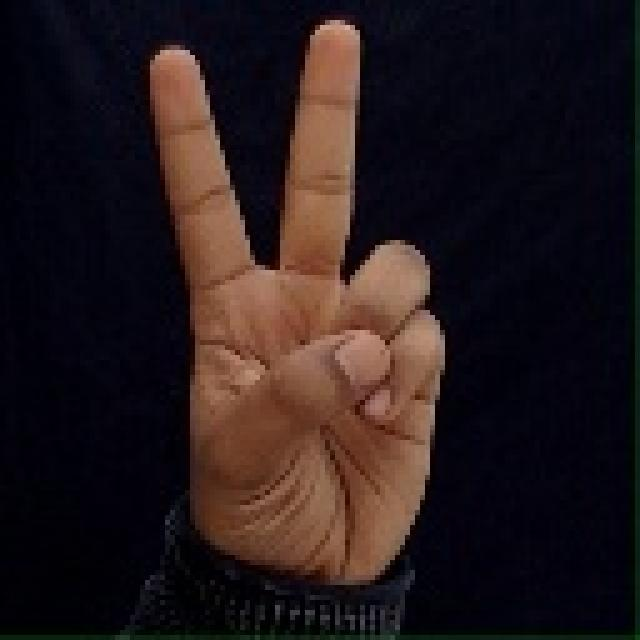No: (131, 1, 451, 629)
